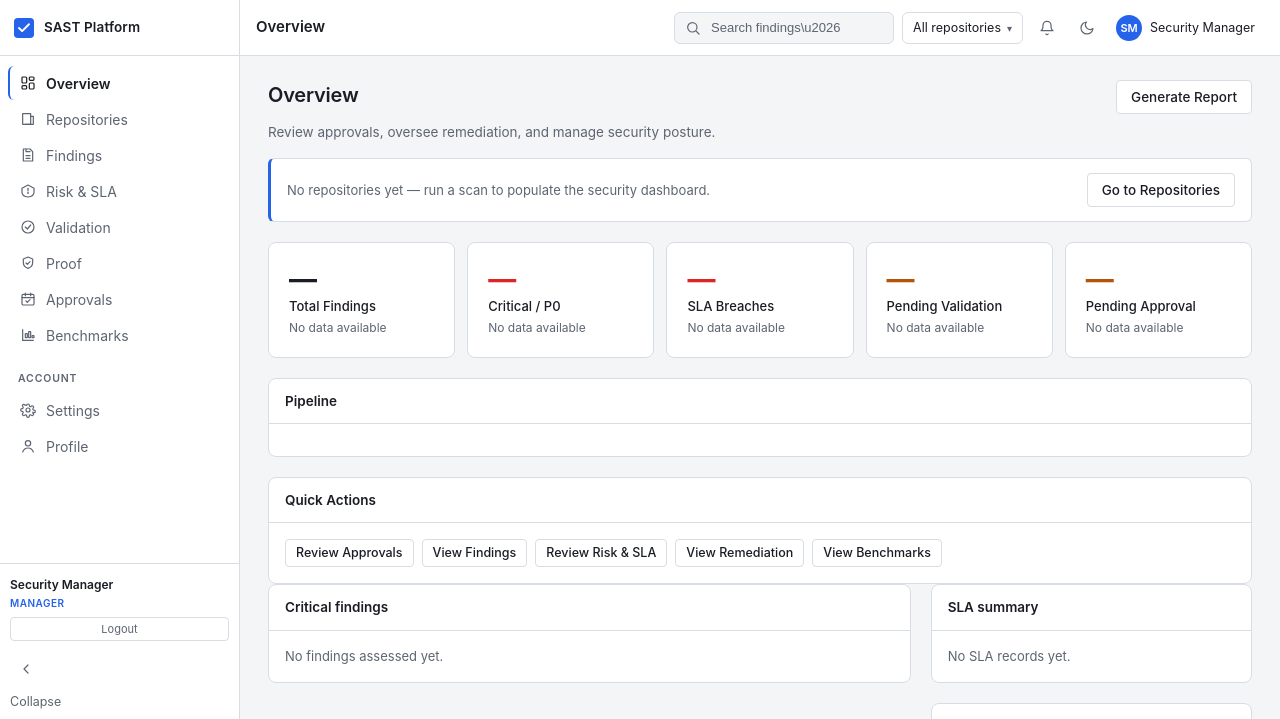
Test: application shell › navigates between routes
Click the link "Findings": (61, 155) [20,146,102,164]
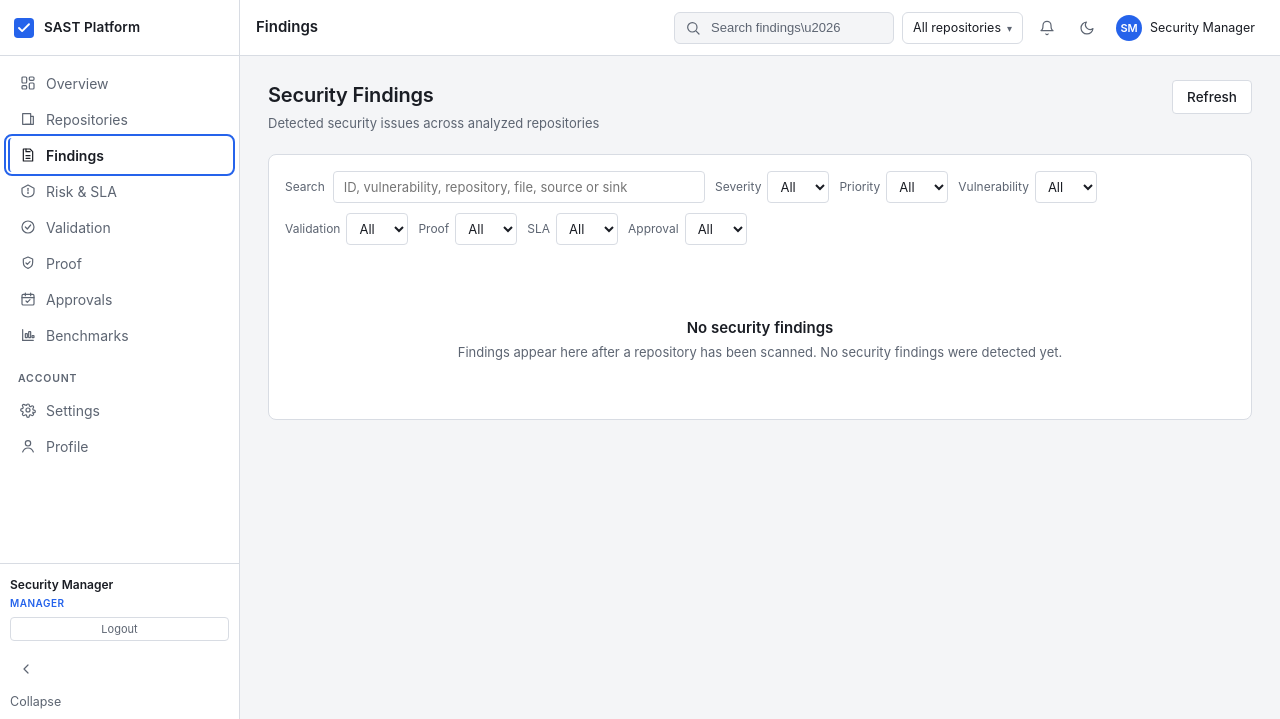
Now the heading "Security Findings" is shown, box [268,83,434,107]
Click the link "Benchmarks": (74, 335) [20,326,129,344]
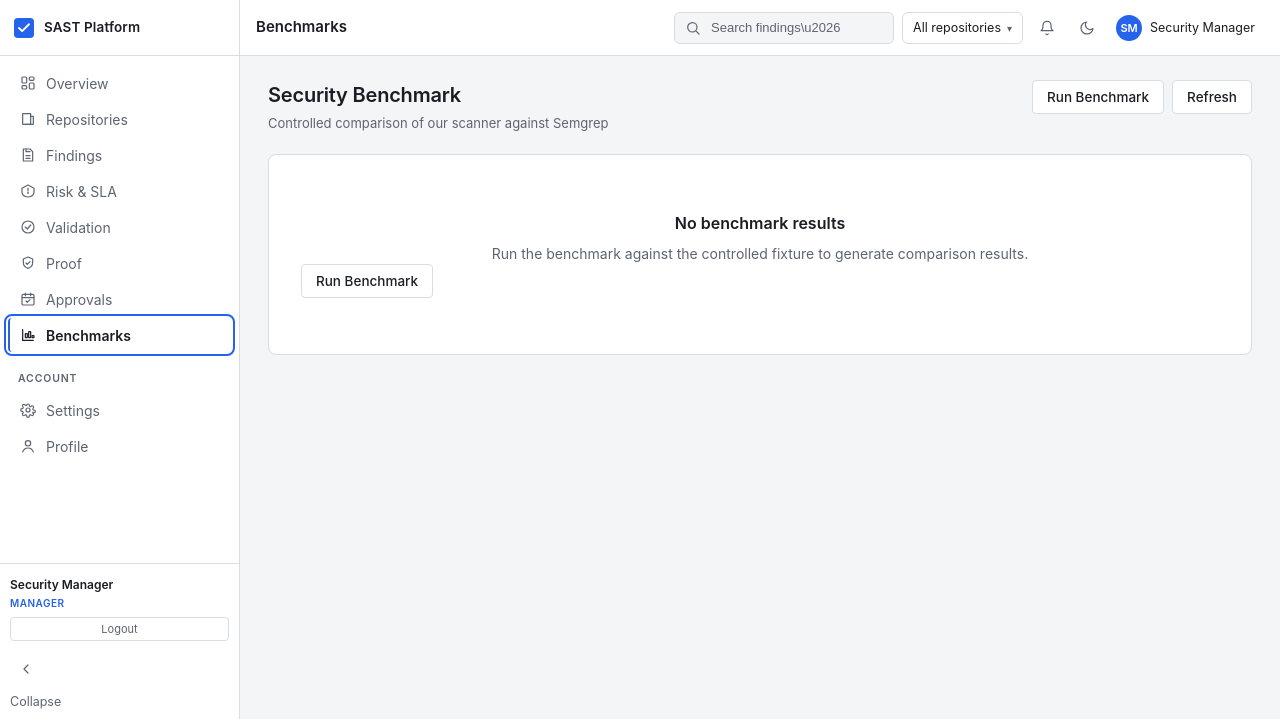
Now the heading "Security Benchmark" is shown, box [268,83,461,107]
Now the heading "No benchmark results" is shown, box [675,212,845,232]
Click the link "Repositories": (74, 119) [20,110,128,128]
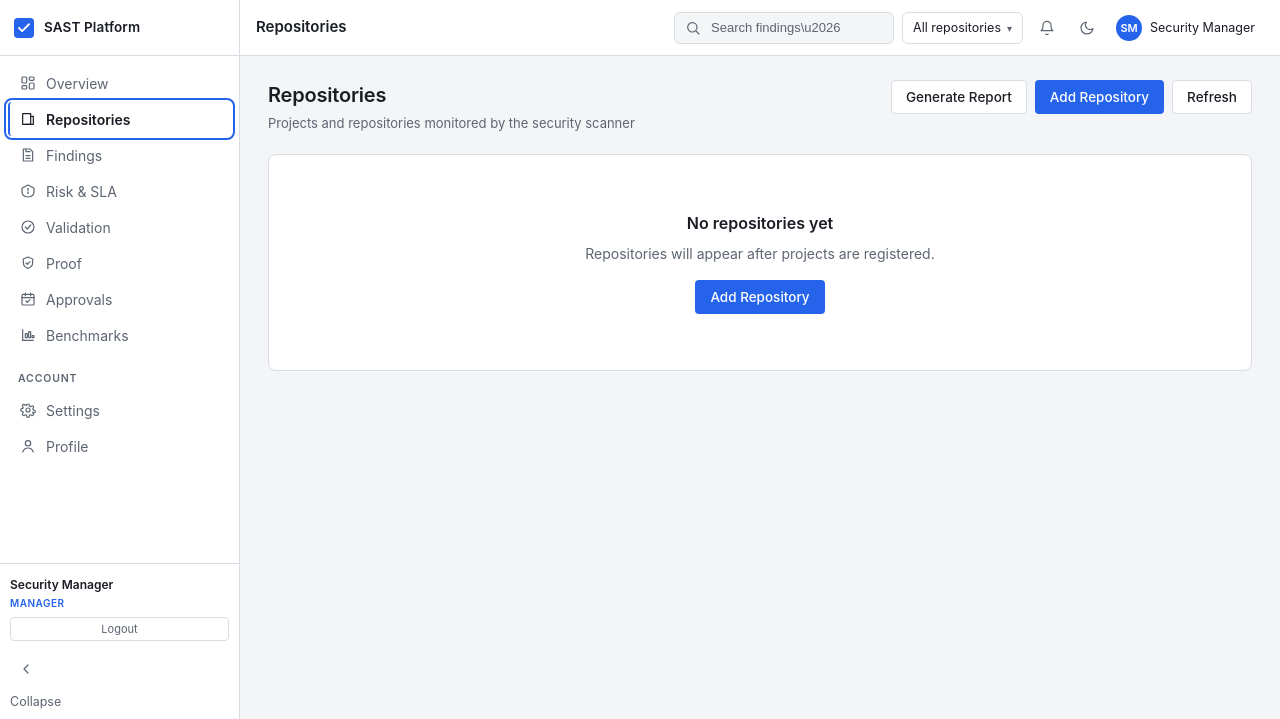
Now the heading "Repositories" is shown, box [268,83,386,107]
Now the heading "No repositories yet" is shown, box [687,212,833,232]
